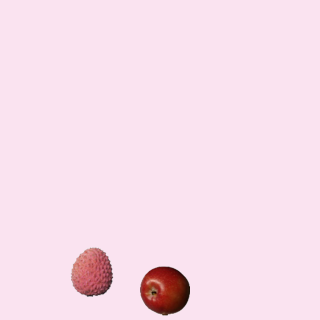Apple Braeburn: (139, 265, 189, 315)
Lychee: (66, 246, 116, 296)
